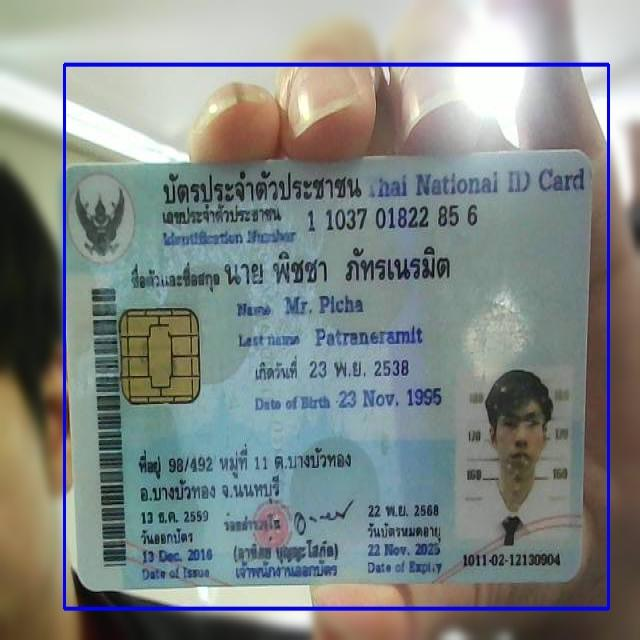Address_th: (132, 439, 358, 511)
Date_of_Birth: (336, 384, 445, 414)
Date_of_Expiry: (361, 538, 445, 560)
Date_of_Issue: (137, 544, 217, 566)
First_Name: (282, 288, 365, 319)
ID_Number: (305, 202, 482, 236)
Image: (457, 364, 569, 544)
Last_Name: (313, 324, 427, 350)
Thai_Name: (222, 242, 456, 293)
